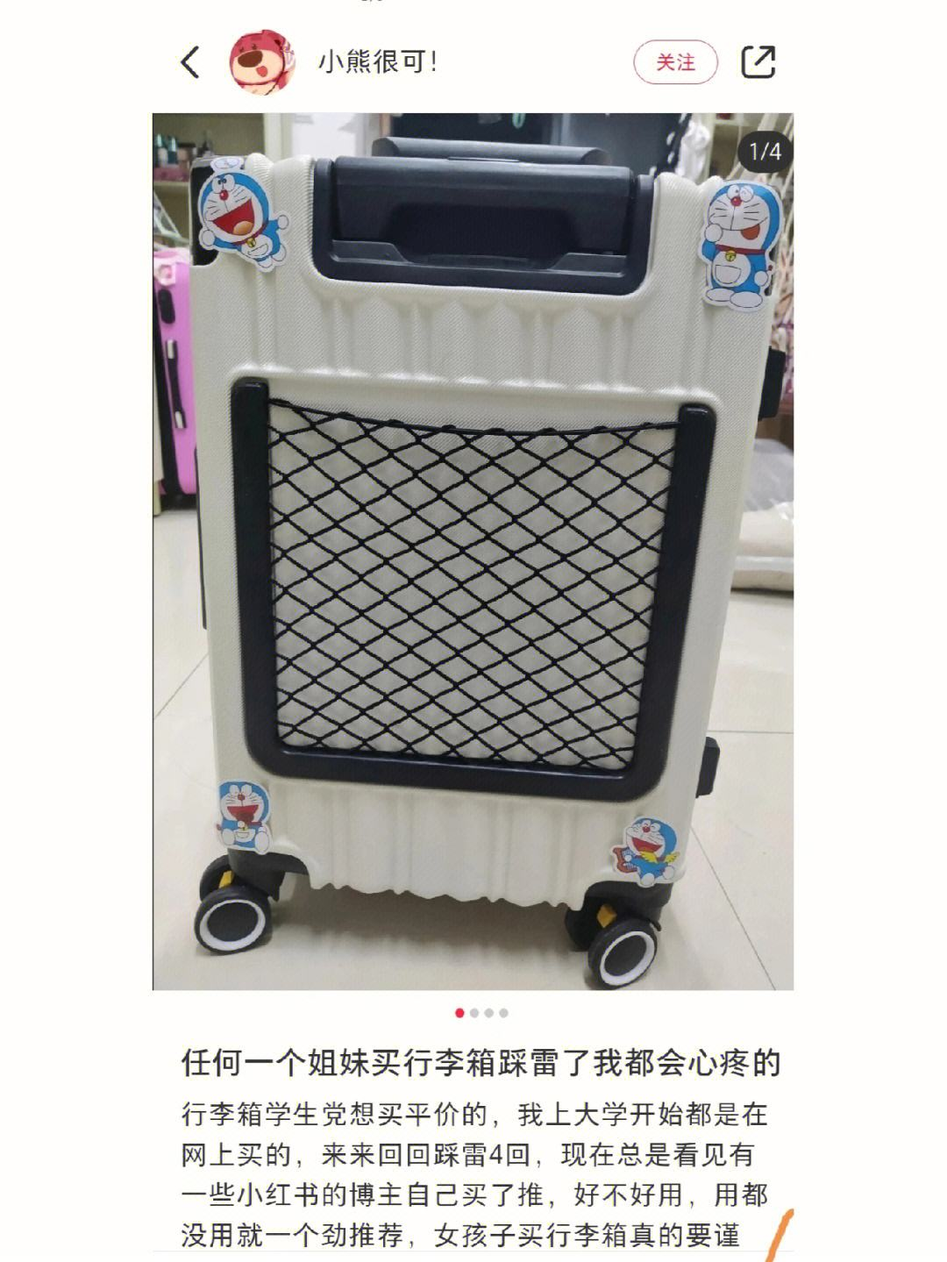box: (189, 154, 783, 917)
handle: (370, 137, 610, 166)
wheel: (564, 904, 659, 989), (196, 855, 274, 955)
